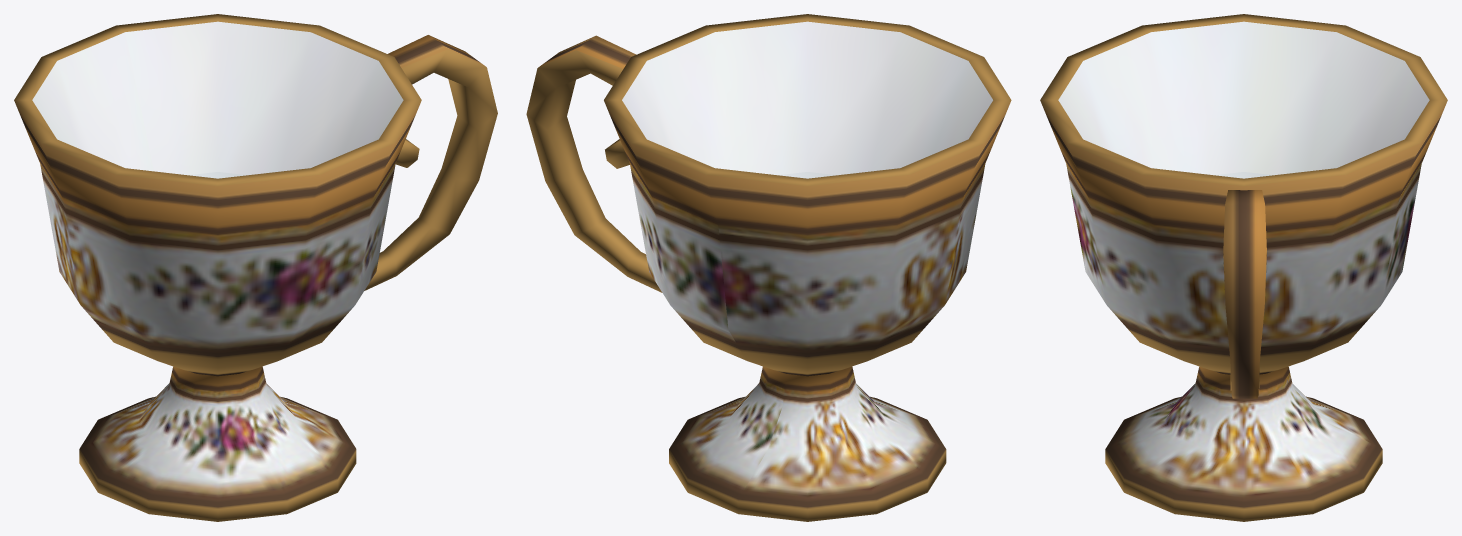
Rendered from Teacup.fbx.
3 renders of one model, left to right at view 1: azimuth 30°, elevation 25°; view 2: azimuth 150°, elevation 25°; view 3: azimuth 270°, elevation 25°, orthographic.
Parts seen in each view (by area): view 1: Teacup_LOD0; view 2: Teacup_LOD0; view 3: Teacup_LOD0.
Boxes of the visible parts, <box> form: Teacup_LOD0: <box>14,14,497,521</box>; Teacup_LOD0: <box>526,14,1011,521</box>; Teacup_LOD0: <box>1040,14,1447,521</box>.
Size of what is drawn, in the model's own units: 26.83 by 21.04 by 21.18.
